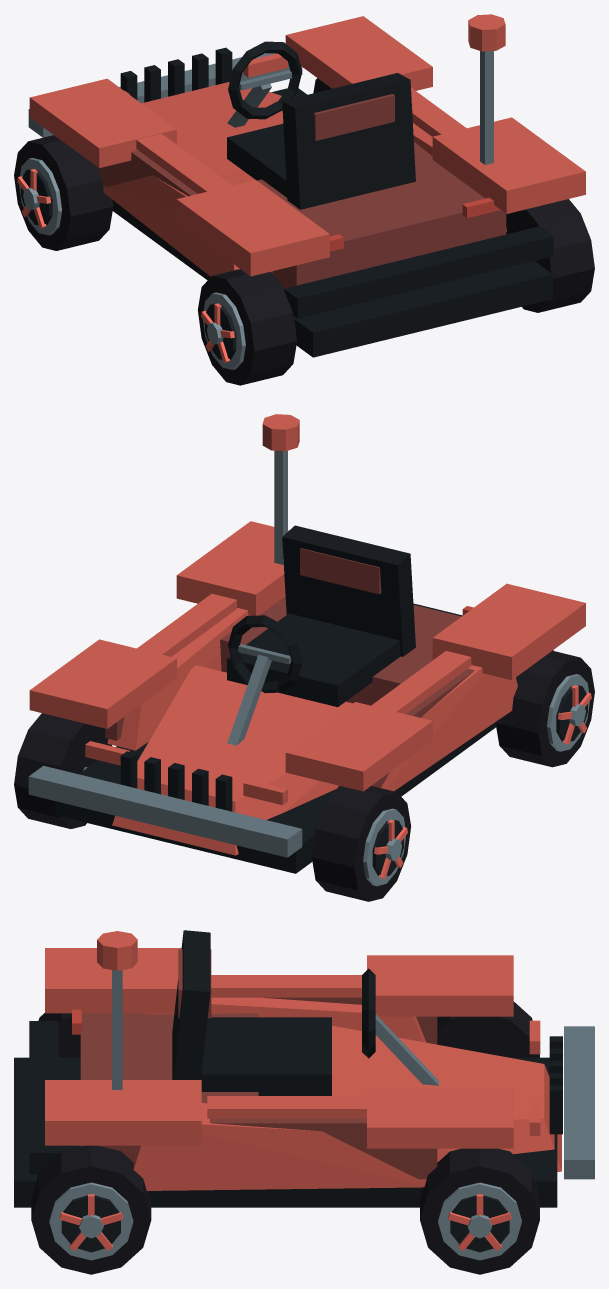
Rendered from kart.glb.
3 views of the same model, one above another, from view 1: azimuth 30°, elevation 25°; view 2: azimuth 150°, elevation 25°; view 3: azimuth 270°, elevation 25° (orthographic). The views are drawn at different scales.
Visible parts, largest first — view 1: chassis, wheel-rear-left, wheel-front-left, wheel-rear-right; view 2: chassis, wheel-front-left, wheel-rear-left, wheel-front-right; view 3: chassis, wheel-rear-right, wheel-front-right, wheel-front-left, wheel-rear-left.
Part boxes in pixels (<box>): chassis: <box>28,14,585,357</box>; wheel-rear-left: <box>198,269,297,385</box>; wheel-front-left: <box>14,135,113,250</box>; wheel-rear-right: <box>506,199,594,312</box>; chassis: <box>28,414,585,873</box>; wheel-front-left: <box>311,786,411,901</box>; wheel-rear-left: <box>495,650,594,767</box>; wheel-front-right: <box>14,713,111,828</box>; chassis: <box>14,930,594,1207</box>; wheel-rear-right: <box>31,1145,151,1274</box>; wheel-front-right: <box>420,1148,539,1274</box>; wheel-front-left: <box>437,1001,539,1057</box>; wheel-rear-left: <box>38,1013,80,1057</box>.
Size of the model in its own units: 2.32 by 1.72 by 3.
